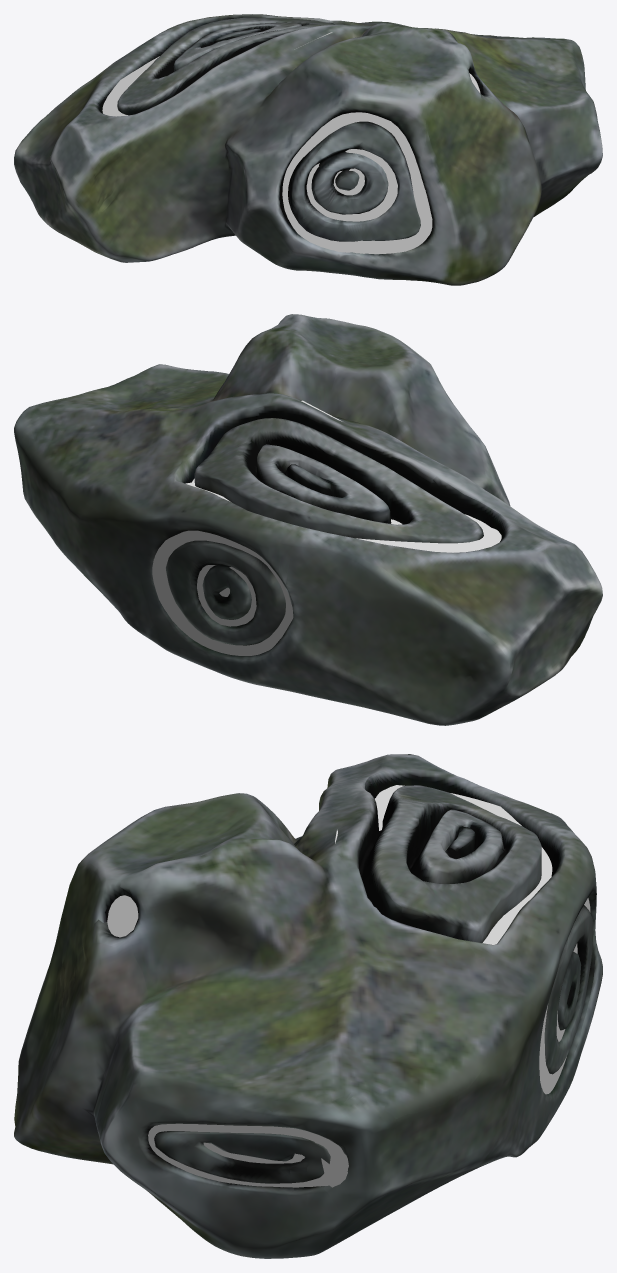
File: Stone10.fbx
3 views of the same model, one above another, from view 1: azimuth 30°, elevation 25°; view 2: azimuth 150°, elevation 25°; view 3: azimuth 270°, elevation 25° (orthographic). The views are drawn at different scales.
Parts seen in each view (by area): view 1: Stone10, Plane.004, Plane.001; view 2: Stone10, Plane, Plane.001; view 3: Stone10, Plane.003, Plane.001, Plane.002, Plane.
Boxes of the visible parts, <box> form: Stone10: <box>14,14,602,285</box>; Plane.004: <box>282,112,432,254</box>; Plane.001: <box>102,32,332,116</box>; Stone10: <box>14,314,602,725</box>; Plane: <box>152,530,293,655</box>; Plane.001: <box>185,400,501,552</box>; Stone10: <box>14,754,602,1258</box>; Plane.003: <box>148,1123,348,1187</box>; Plane.001: <box>335,785,552,944</box>; Plane.002: <box>107,895,138,937</box>; Plane: <box>539,898,590,1094</box>.
Bounding box in the file's own units: 260 × 98.83 × 178.
1 material, 1 textured.
